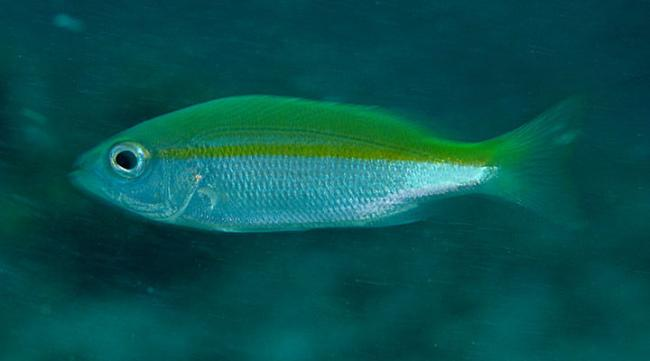fish: (70, 94, 591, 234)
